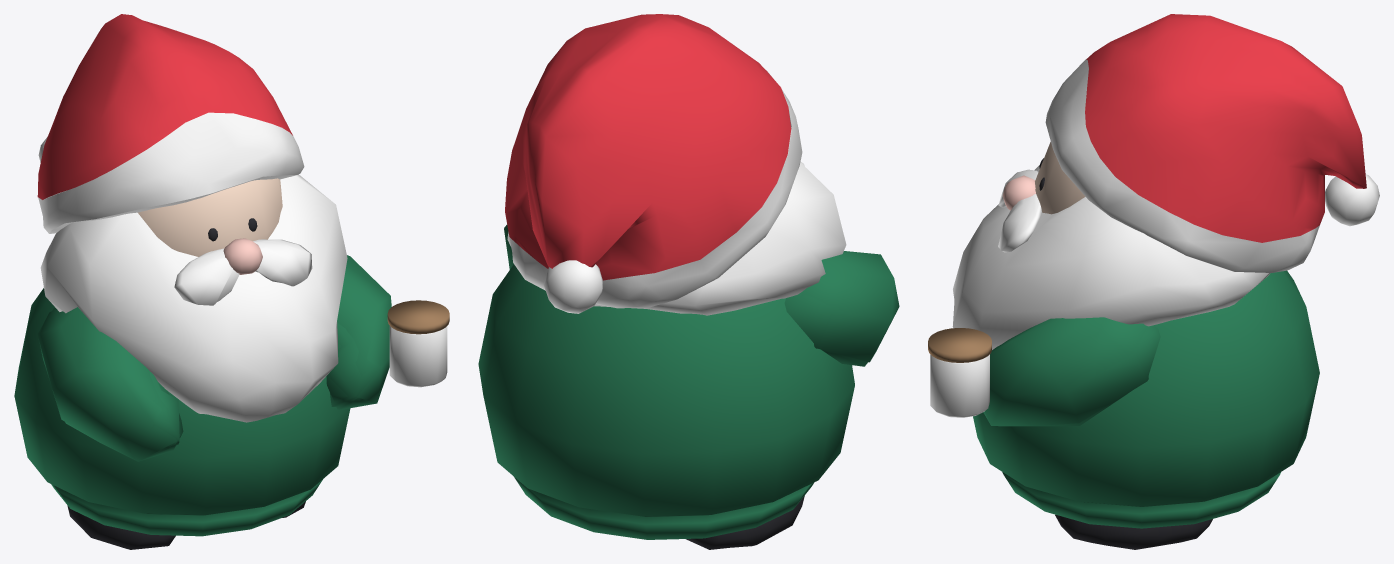
File: barista.glb
3 views of the same model, side by side, from view 1: azimuth 30°, elevation 25°; view 2: azimuth 150°, elevation 25°; view 3: azimuth 270°, elevation 25° (orthographic). The views are drawn at different scales.
Parts seen in each view (by area): view 1: barista_white, barista_darkgreen, barista_red, barista_skin, barista_black, barista_brown, barista_nose; view 2: barista_darkgreen, barista_red, barista_white, barista_black; view 3: barista_darkgreen, barista_red, barista_white, barista_black, barista_brown, barista_skin, barista_nose.
Boxes of the visible parts, left/top/right/bottom form: barista_white: left=38, top=112, right=447, bottom=422; barista_darkgreen: left=14, top=255, right=391, bottom=536; barista_red: left=37, top=14, right=292, bottom=199; barista_skin: left=138, top=178, right=282, bottom=256; barista_black: left=67, top=218, right=305, bottom=549; barista_brown: left=387, top=300, right=449, bottom=334; barista_nose: left=223, top=238, right=262, bottom=274; barista_darkgreen: left=478, top=224, right=899, bottom=539; barista_red: left=505, top=14, right=791, bottom=280; barista_white: left=507, top=70, right=846, bottom=315; barista_black: left=686, top=495, right=804, bottom=549; barista_darkgreen: left=973, top=270, right=1319, bottom=528; barista_red: left=1085, top=14, right=1366, bottom=242; barista_white: left=930, top=59, right=1379, bottom=417; barista_black: left=1039, top=158, right=1212, bottom=549; barista_brown: left=928, top=328, right=991, bottom=362; barista_skin: left=1035, top=98, right=1146, bottom=214; barista_nose: left=1002, top=175, right=1035, bottom=210.
Size of the model in its own units: 2.29 by 2.98 by 2.54.
